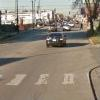Crosswalk: (10, 64, 82, 95)
